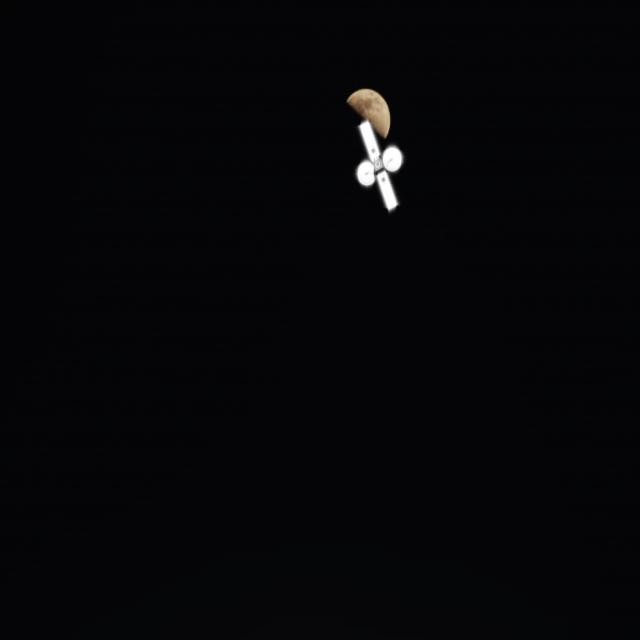satellite: (347, 120, 420, 220)
